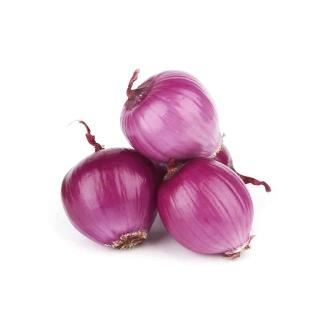Bawang Merah: (58, 147, 161, 252), (156, 157, 258, 263)
